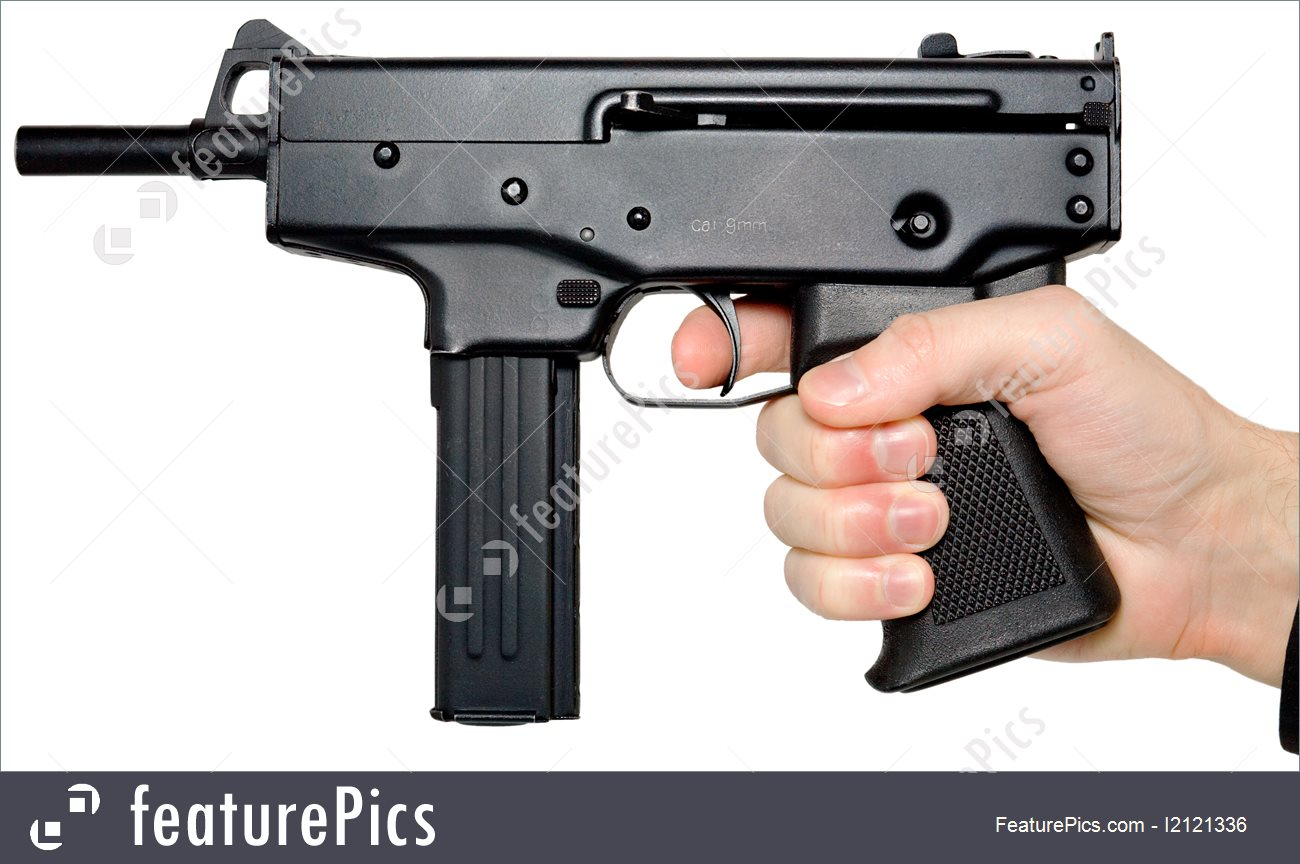pistol: (4, 5, 1232, 742)
